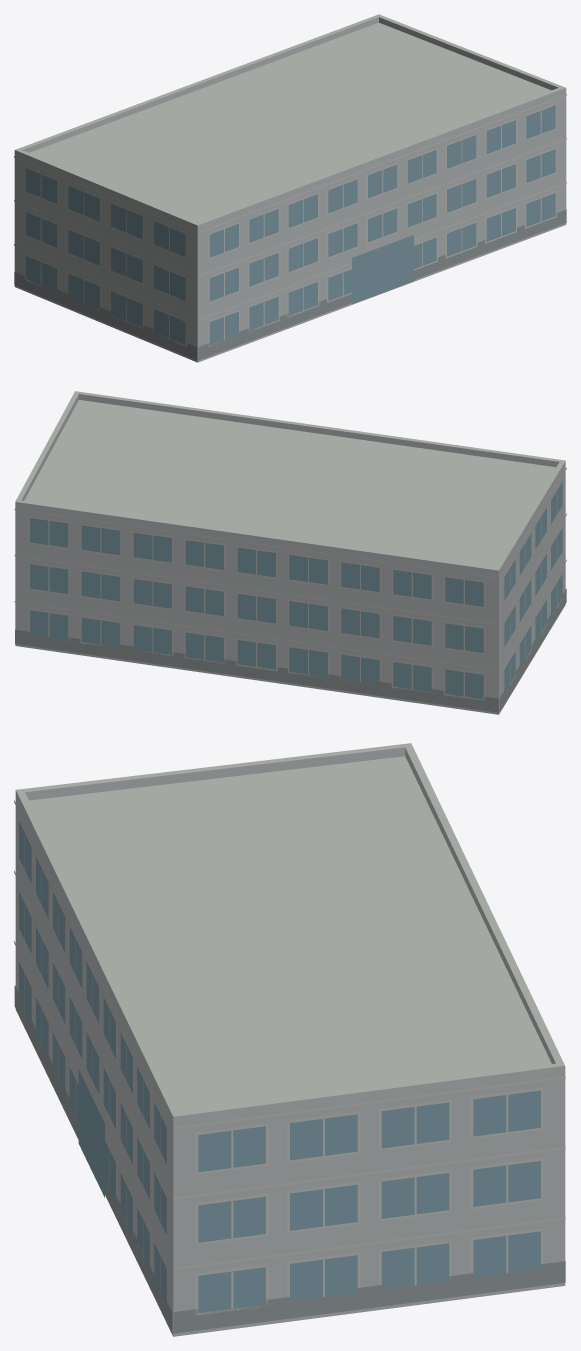
File: public-b6593099-0777-44d2-a67f-1241dca6f111.glb
3 renders of one model, top to bottom at view 1: azimuth 30°, elevation 25°; view 2: azimuth 150°, elevation 25°; view 3: azimuth 270°, elevation 25°, orthographic. The views are drawn at different scales.
Visible parts, largest first — view 1: public-b6593099-0777-44d2-a67f-1241dca6f111; view 2: public-b6593099-0777-44d2-a67f-1241dca6f111; view 3: public-b6593099-0777-44d2-a67f-1241dca6f111.
Boxes of the visible parts, x1,y1,x2,y2 form: public-b6593099-0777-44d2-a67f-1241dca6f111: (14,14,566,362); public-b6593099-0777-44d2-a67f-1241dca6f111: (14,391,566,714); public-b6593099-0777-44d2-a67f-1241dca6f111: (14,743,565,1336).
Bounding box in the file's own units: 33.46 × 9.15 × 20.84.
